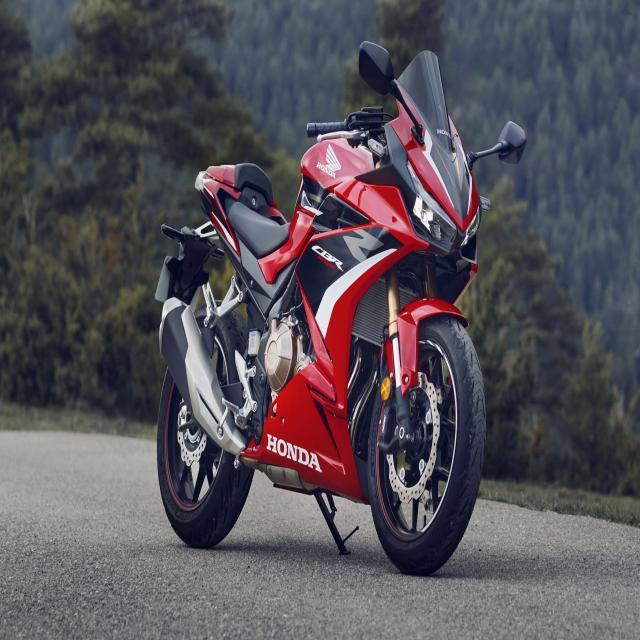Motorcycle: (155, 42, 487, 573)
